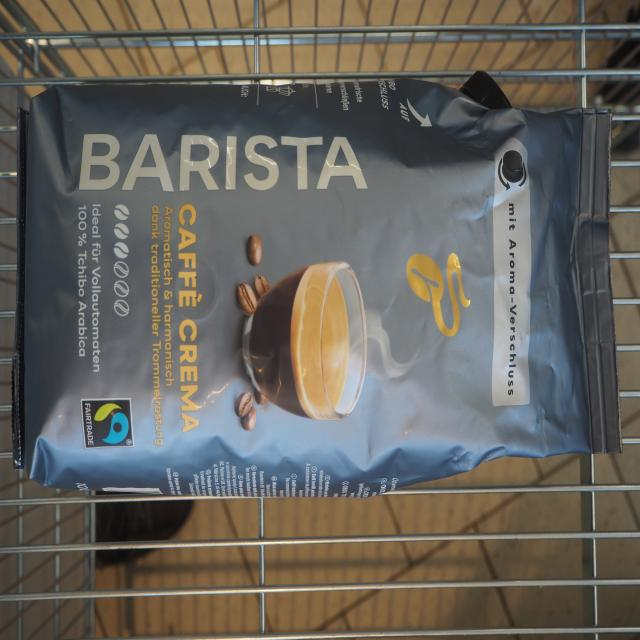Barista CC: (19, 63, 627, 506)
